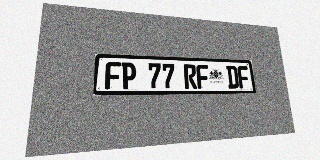7: (147, 63, 162, 89), (161, 63, 175, 89)
D: (226, 66, 239, 89)
F: (105, 62, 121, 89), (196, 65, 210, 89), (237, 66, 250, 88)
P: (121, 62, 136, 89)
R: (183, 64, 197, 89)
